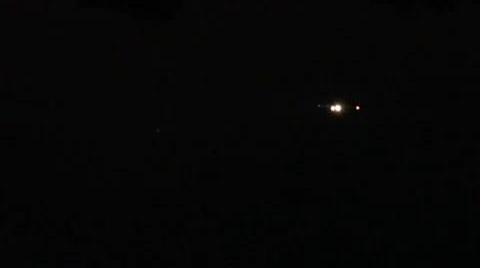Plane: (292, 84, 391, 129)
